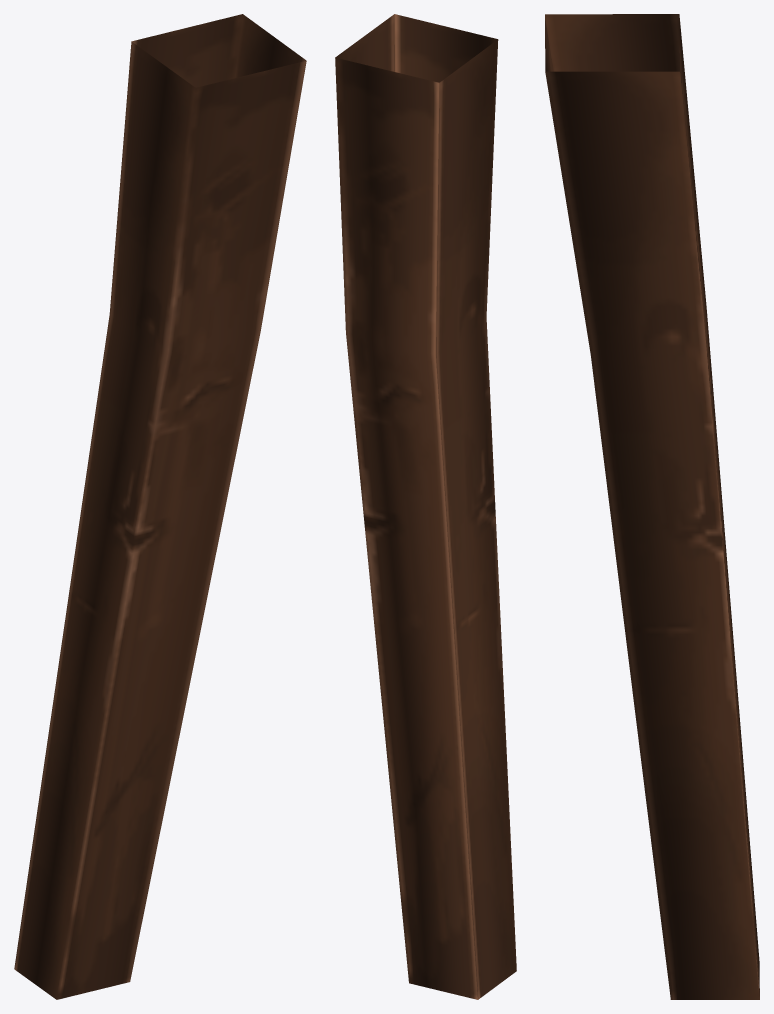
File: sn_jiguan_tielong_004.FBX
3 views of the same model, side by side, from view 1: azimuth 30°, elevation 25°; view 2: azimuth 150°, elevation 25°; view 3: azimuth 270°, elevation 25° (orthographic). The views are drawn at different scales.
Parts seen in each view (by area): view 1: sn_jiguan_tielong_004; view 2: sn_jiguan_tielong_004; view 3: sn_jiguan_tielong_004.
Boxes of the visible parts, x1=… form: sn_jiguan_tielong_004: x1=14, y1=14, x2=306, y2=999; sn_jiguan_tielong_004: x1=335, y1=14, x2=516, y2=999; sn_jiguan_tielong_004: x1=545, y1=14, x2=759, y2=999.
Bounding box in the file's own units: 78.73 × 369 × 72.64.
